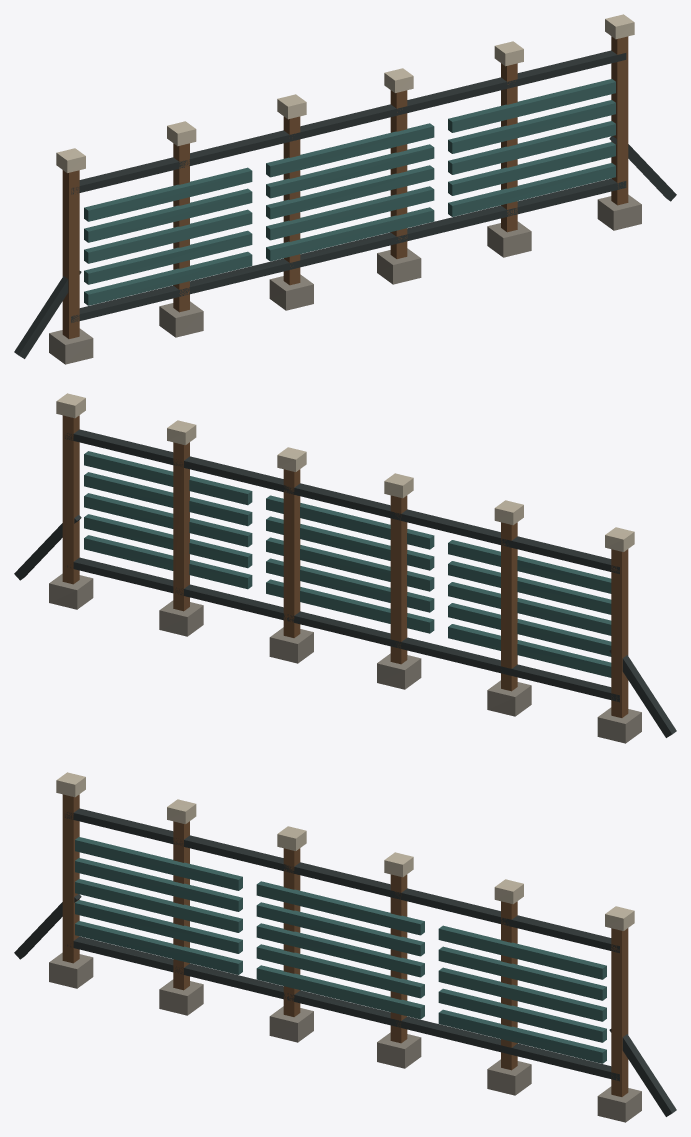
Rendered from snow-fence.source.glb.
3 renders of one model, top to bottom at view 1: azimuth 30°, elevation 25°; view 2: azimuth 150°, elevation 25°; view 3: azimuth 330°, elevation 25°, orthographic.
Parts seen in each view (by area): view 1: snow-fence-long-charcoal-rail-0.55-mesh, snow-fence-long-charcoal-rail-2.38-mesh, snow-fence-slim-timber-post--4.1-mesh, snow-fence-windbreak-slat--2.72-2.02-mesh, snow-fence-windbreak-slat--2.72-0.82-mesh, snow-fence-windbreak-slat--2.72-1.12-mesh, snow-fence-windbreak-slat--2.72-1.42-mesh, snow-fence-windbreak-slat--2.72-1.72-mesh, snow-fence-windbreak-slat-0-1.12-mesh, snow-fence-windbreak-slat-0-2.02-mesh, snow-fence-windbreak-slat-0-0.82-mesh, snow-fence-windbreak-slat-0-1.42-mesh (+25 smaller); view 2: snow-fence-long-charcoal-rail-2.38-mesh, snow-fence-long-charcoal-rail-0.55-mesh, snow-fence-slim-timber-post-4.1-mesh, snow-fence-slim-timber-post--4.1-mesh, snow-fence-slim-timber-post-0.8-mesh, snow-fence-slim-timber-post-2.45-mesh, snow-fence-slim-timber-post--0.8-mesh, snow-fence-slim-timber-post--2.45-mesh, snow-fence-windbreak-slat-2.72-0.82-mesh, snow-fence-windbreak-slat-2.72-1.12-mesh, snow-fence-windbreak-slat-2.72-1.42-mesh, snow-fence-windbreak-slat-2.72-1.72-mesh (+25 smaller); view 3: snow-fence-long-charcoal-rail-2.38-mesh, snow-fence-long-charcoal-rail-0.55-mesh, snow-fence-slim-timber-post-4.1-mesh, snow-fence-windbreak-slat-2.72-2.02-mesh, snow-fence-windbreak-slat-2.72-0.82-mesh, snow-fence-windbreak-slat-2.72-1.12-mesh, snow-fence-windbreak-slat-2.72-1.42-mesh, snow-fence-windbreak-slat-2.72-1.72-mesh, snow-fence-windbreak-slat-0-1.12-mesh, snow-fence-windbreak-slat-0-2.02-mesh, snow-fence-windbreak-slat-0-0.82-mesh, snow-fence-windbreak-slat-0-1.42-mesh (+25 smaller).
Boxes of the visible parts, bbox=[...] form: snow-fence-long-charcoal-rail-0.55-mesh: bbox=[71, 178, 626, 322]; snow-fence-long-charcoal-rail-2.38-mesh: bbox=[71, 50, 626, 194]; snow-fence-slim-timber-post--4.1-mesh: bbox=[62, 170, 79, 338]; snow-fence-windbreak-slat--2.72-2.02-mesh: bbox=[84, 167, 252, 221]; snow-fence-windbreak-slat--2.72-0.82-mesh: bbox=[84, 251, 252, 305]; snow-fence-windbreak-slat--2.72-1.12-mesh: bbox=[84, 230, 252, 284]; snow-fence-windbreak-slat--2.72-1.42-mesh: bbox=[84, 209, 252, 263]; snow-fence-windbreak-slat--2.72-1.72-mesh: bbox=[84, 188, 252, 242]; snow-fence-windbreak-slat-0-1.12-mesh: bbox=[266, 186, 434, 240]; snow-fence-windbreak-slat-0-2.02-mesh: bbox=[266, 123, 434, 177]; snow-fence-windbreak-slat-0-0.82-mesh: bbox=[266, 207, 434, 261]; snow-fence-windbreak-slat-0-1.42-mesh: bbox=[266, 165, 434, 219]; snow-fence-long-charcoal-rail-2.38-mesh: bbox=[65, 429, 619, 573]; snow-fence-long-charcoal-rail-0.55-mesh: bbox=[67, 557, 619, 702]; snow-fence-slim-timber-post-4.1-mesh: bbox=[62, 415, 79, 584]; snow-fence-slim-timber-post--4.1-mesh: bbox=[611, 549, 628, 717]; snow-fence-slim-timber-post-0.8-mesh: bbox=[283, 469, 300, 637]; snow-fence-slim-timber-post-2.45-mesh: bbox=[173, 442, 189, 611]; snow-fence-slim-timber-post--0.8-mesh: bbox=[390, 495, 407, 664]; snow-fence-slim-timber-post--2.45-mesh: bbox=[501, 522, 517, 691]; snow-fence-windbreak-slat-2.72-0.82-mesh: bbox=[84, 535, 252, 589]; snow-fence-windbreak-slat-2.72-1.12-mesh: bbox=[84, 514, 252, 568]; snow-fence-windbreak-slat-2.72-1.42-mesh: bbox=[84, 493, 252, 547]; snow-fence-windbreak-slat-2.72-1.72-mesh: bbox=[84, 472, 252, 526]; snow-fence-long-charcoal-rail-2.38-mesh: bbox=[65, 808, 619, 952]; snow-fence-long-charcoal-rail-0.55-mesh: bbox=[67, 936, 619, 1081]; snow-fence-slim-timber-post-4.1-mesh: bbox=[611, 928, 628, 1096]; snow-fence-windbreak-slat-2.72-2.02-mesh: bbox=[438, 925, 606, 979]; snow-fence-windbreak-slat-2.72-0.82-mesh: bbox=[438, 1009, 606, 1063]; snow-fence-windbreak-slat-2.72-1.12-mesh: bbox=[438, 988, 606, 1042]; snow-fence-windbreak-slat-2.72-1.42-mesh: bbox=[438, 967, 606, 1021]; snow-fence-windbreak-slat-2.72-1.72-mesh: bbox=[438, 946, 606, 1000]; snow-fence-windbreak-slat-0-1.12-mesh: bbox=[256, 944, 424, 998]; snow-fence-windbreak-slat-0-2.02-mesh: bbox=[256, 881, 424, 935]; snow-fence-windbreak-slat-0-0.82-mesh: bbox=[256, 965, 424, 1019]; snow-fence-windbreak-slat-0-1.42-mesh: bbox=[256, 923, 424, 977].
Size of the model in its own units: 9.84 by 2.87 by 0.42.
